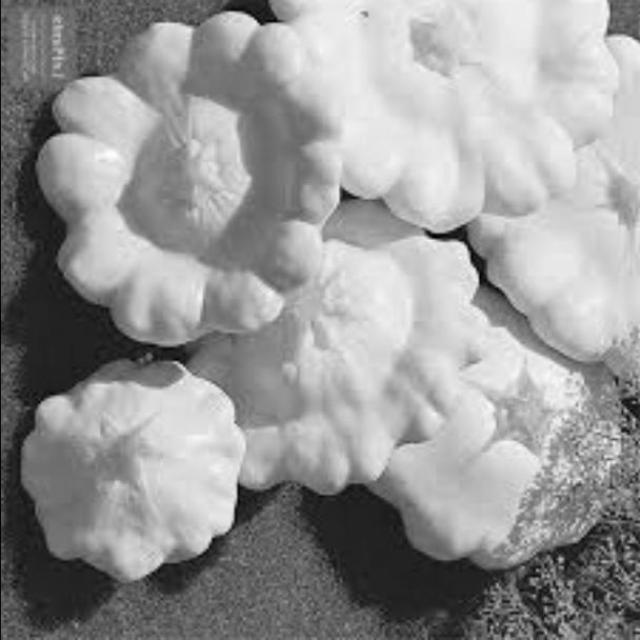bi dao: (19, 32, 360, 353), (250, 1, 630, 235), (377, 244, 640, 575), (201, 205, 492, 492), (471, 0, 640, 372), (25, 354, 253, 587)
